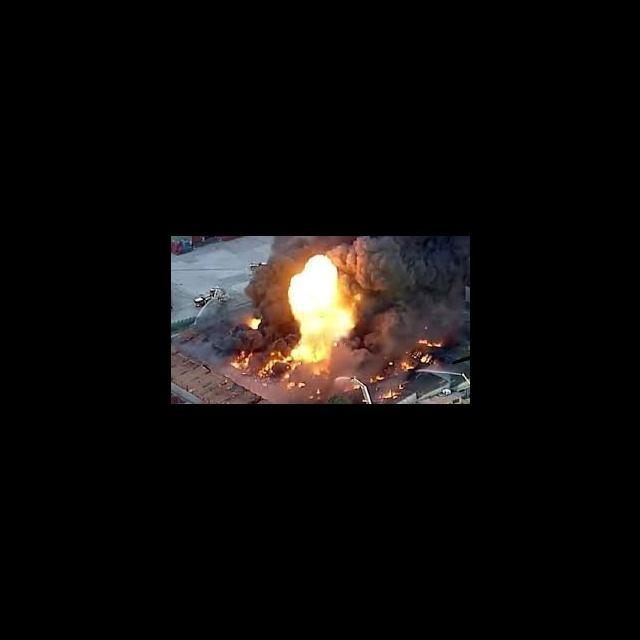Fire: (290, 250, 360, 362), (252, 352, 284, 380), (417, 335, 444, 348), (382, 385, 401, 401), (230, 352, 247, 368), (284, 379, 304, 391), (246, 316, 262, 329), (400, 358, 412, 372), (368, 372, 382, 384), (418, 353, 434, 363)
Smoke: (360, 236, 470, 334), (248, 253, 286, 314), (276, 236, 359, 250), (264, 318, 288, 350)
